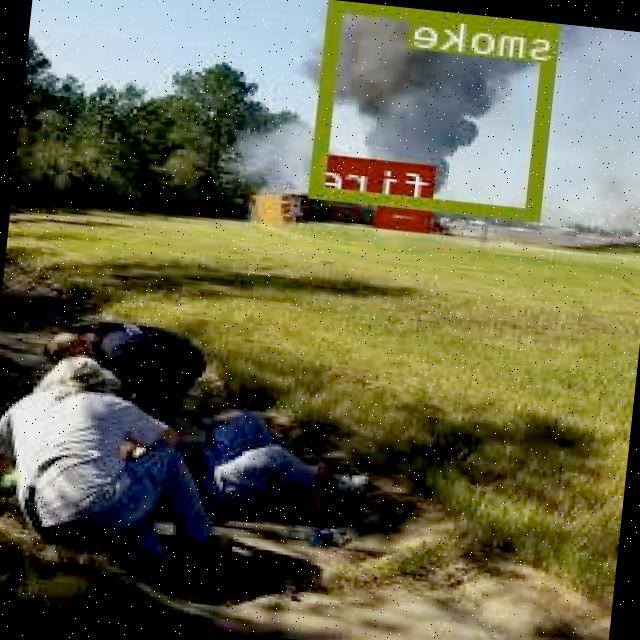fire: (379, 201, 433, 230)
smoke: (314, 0, 564, 220)
